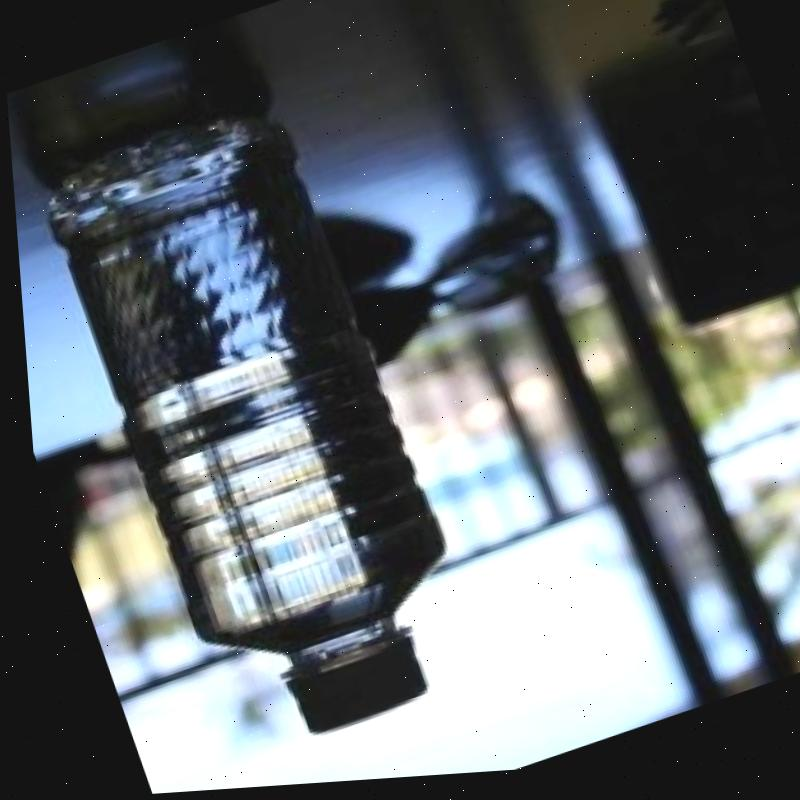botella: (28, 85, 482, 770)
